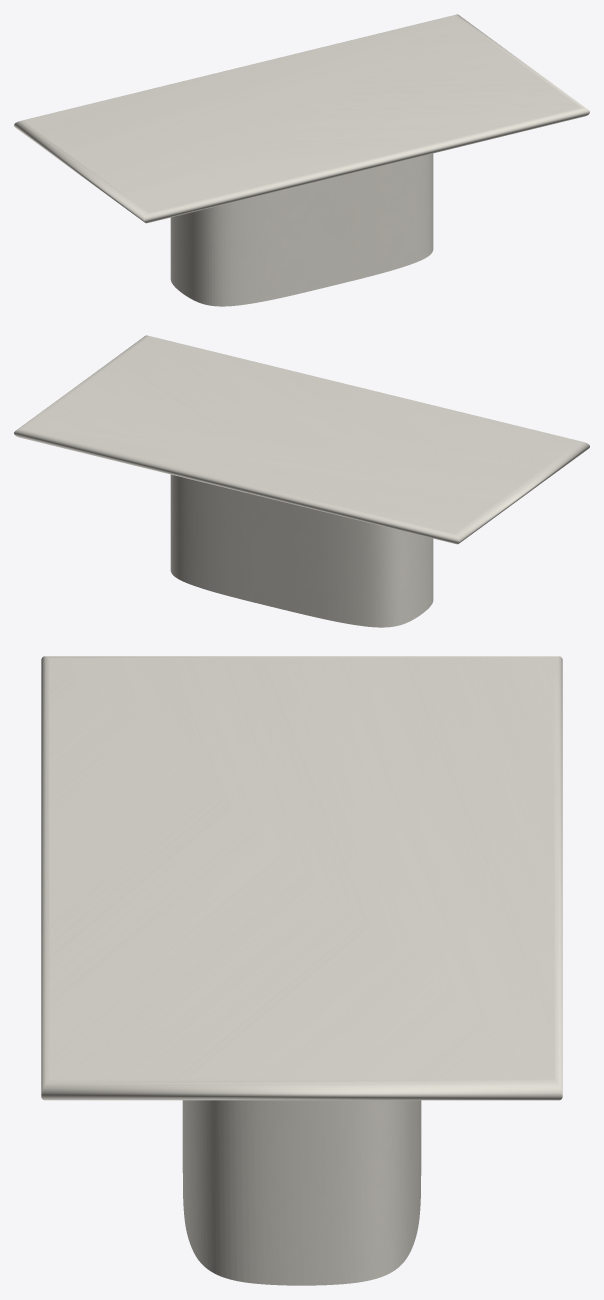
File: pale_recta_round_fixed.glb
The picture shows the model from 3 angles, top to bottom: view 1: azimuth 30°, elevation 25°; view 2: azimuth 150°, elevation 25°; view 3: azimuth 270°, elevation 25°; orthographic projection. The views are drawn at different scales.
Visible parts, largest first — view 1: round_recta, fixed; view 2: round_recta, fixed; view 3: round_recta, fixed.
Boxes of the visible parts, x1=… form: round_recta: x1=14, y1=14, x2=589, y2=223; fixed: x1=170, y1=153, x2=433, y2=306; round_recta: x1=14, y1=335, x2=589, y2=544; fixed: x1=170, y1=474, x2=433, y2=627; round_recta: x1=41, y1=656, x2=562, y2=1100; fixed: x1=182, y1=1100, x2=421, y2=1285.
Size of the model in its own units: 7.76 by 2.5 by 3.93.
1 material, 1 textured.
